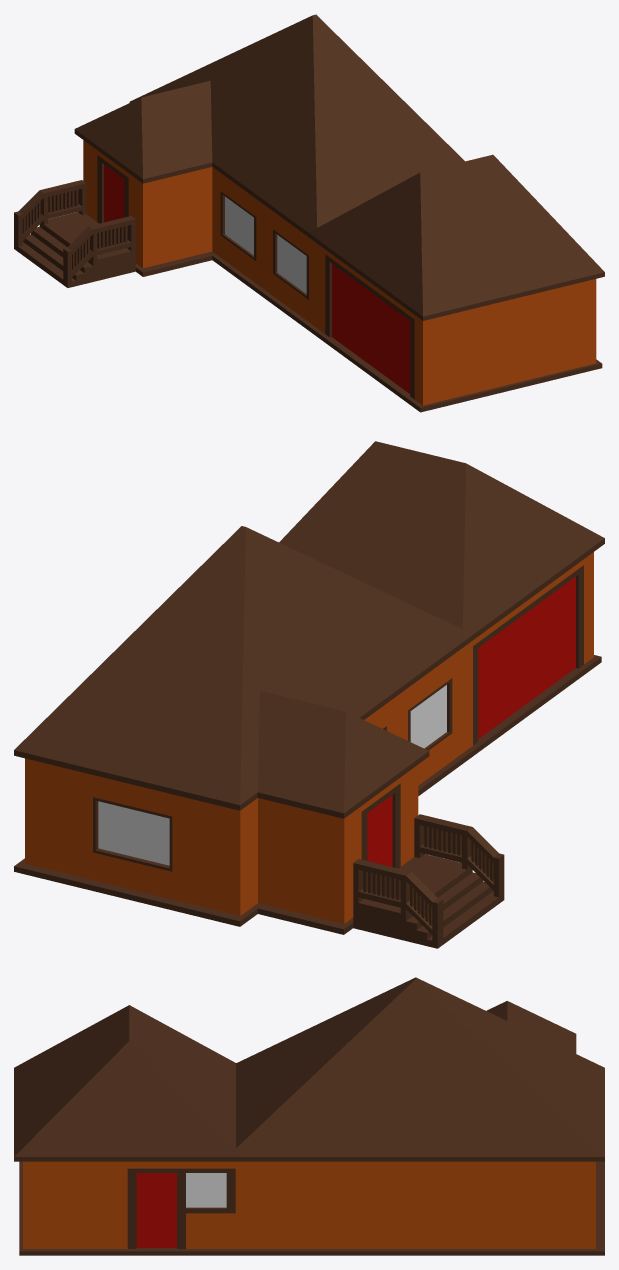
Rendered from House #3.fbx.
The picture shows the model from 3 angles, top to bottom: view 1: azimuth 30°, elevation 25°; view 2: azimuth 150°, elevation 25°; view 3: azimuth 270°, elevation 25°; orthographic projection. The views are drawn at different scales.
Parts seen in each view (by area): view 1: building_001; view 2: building_001; view 3: building_001.
Part boxes in pixels (x1,y1,x2,y2): building_001: (14, 14, 604, 412); building_001: (14, 441, 604, 948); building_001: (14, 977, 604, 1255).
Bounding box in the file's own units: 751 × 520 × 1196.
